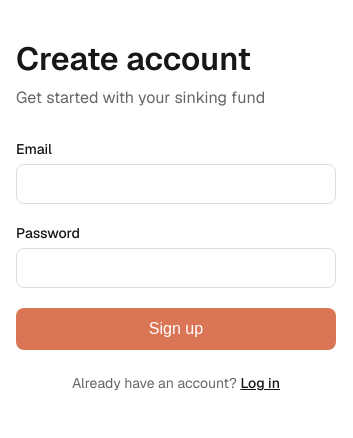
Test: SignupPage › shows an error message on validation failure (400)
This screenshot has width=353, height=438.
Type "test@example.com" into the field labelled "Email" at x=176, y=184, box [16, 164, 336, 204]
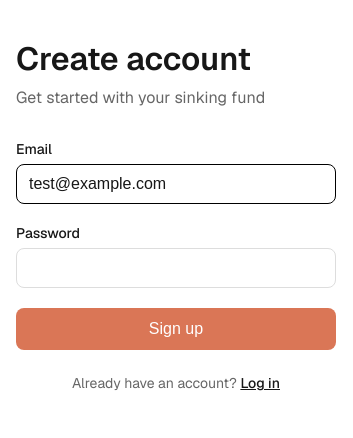
Type "securepass123" into the password field labelled "Password" at x=176, y=268, box [16, 248, 336, 288]
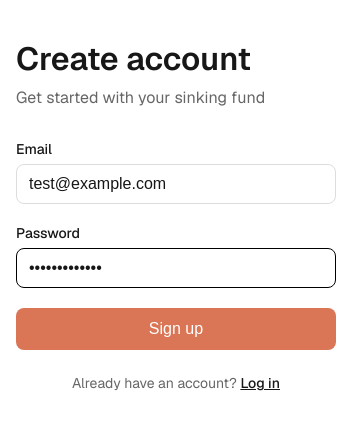
Click the button "Sign up" at x=176, y=329, box [16, 308, 336, 350]
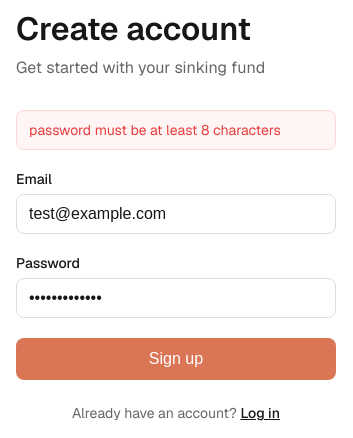
Expected: the message reads "password must be at least 8 characters", [29, 121, 281, 139]
